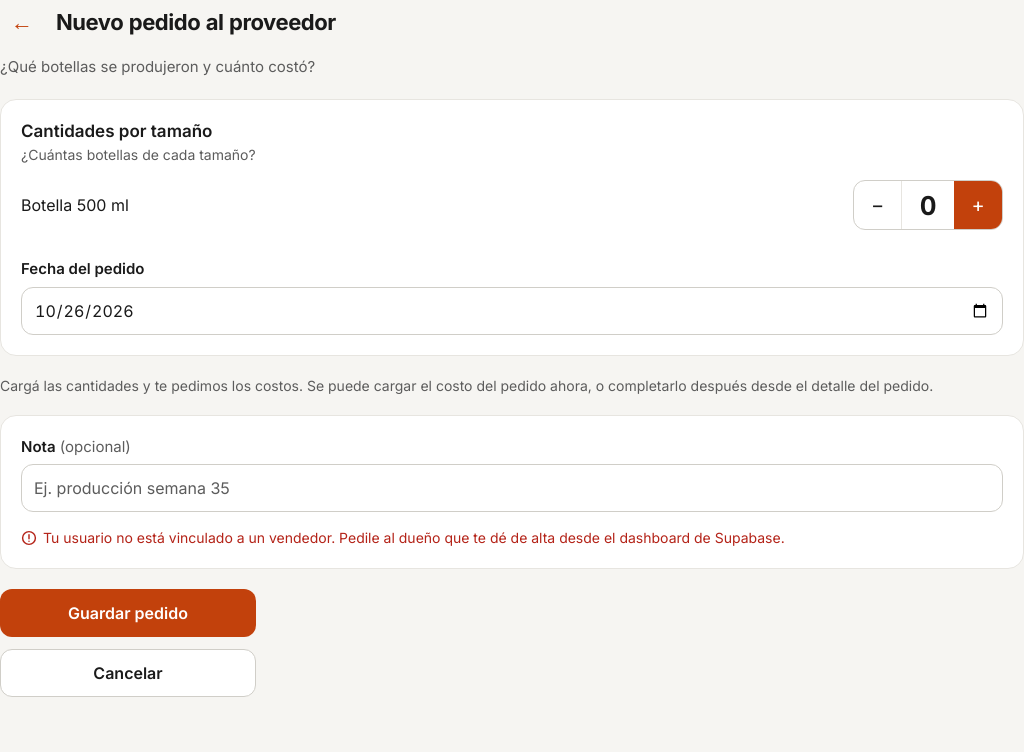
Test: Pedido nuevo › arranca con las cantidades y suma las secciones de costos al cargar botellas
Click the button named "Sumar una unidad de Botella 500 ml" at (978, 205), box [954,181,1002,229]
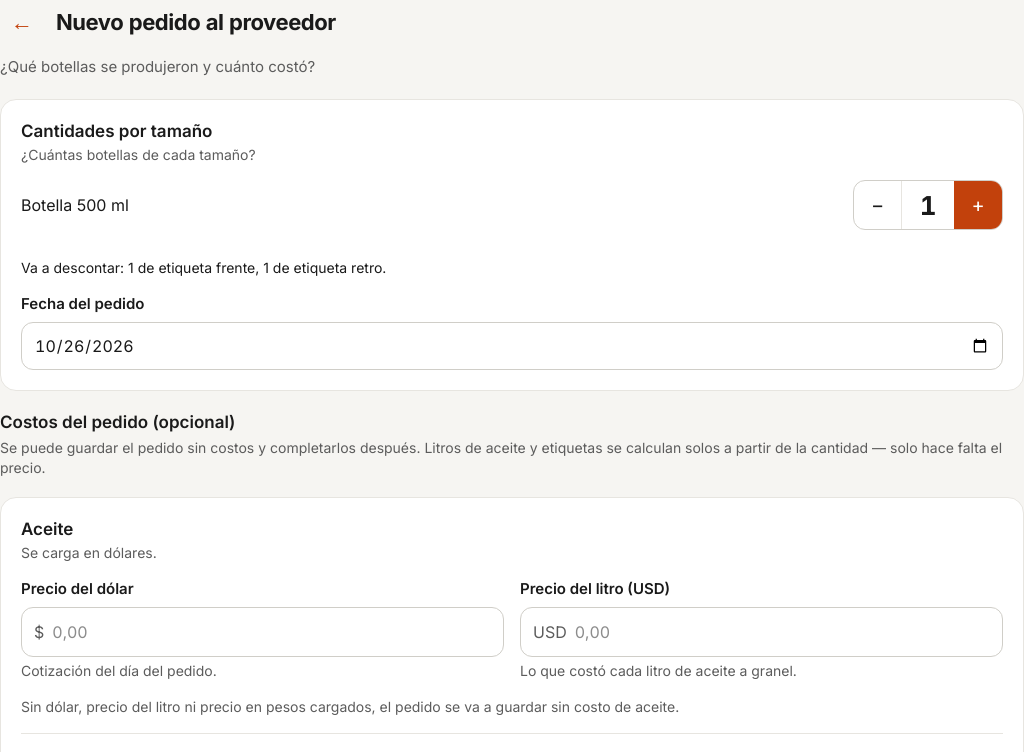
Check: the heading "Cantidades por tamaño" is shown, box [21,120,212,140]
Check: the text "aceite" is shown, box [486,439,526,456]
Check: the text "Etiquetas" is shown, box [0,439,1002,476]
